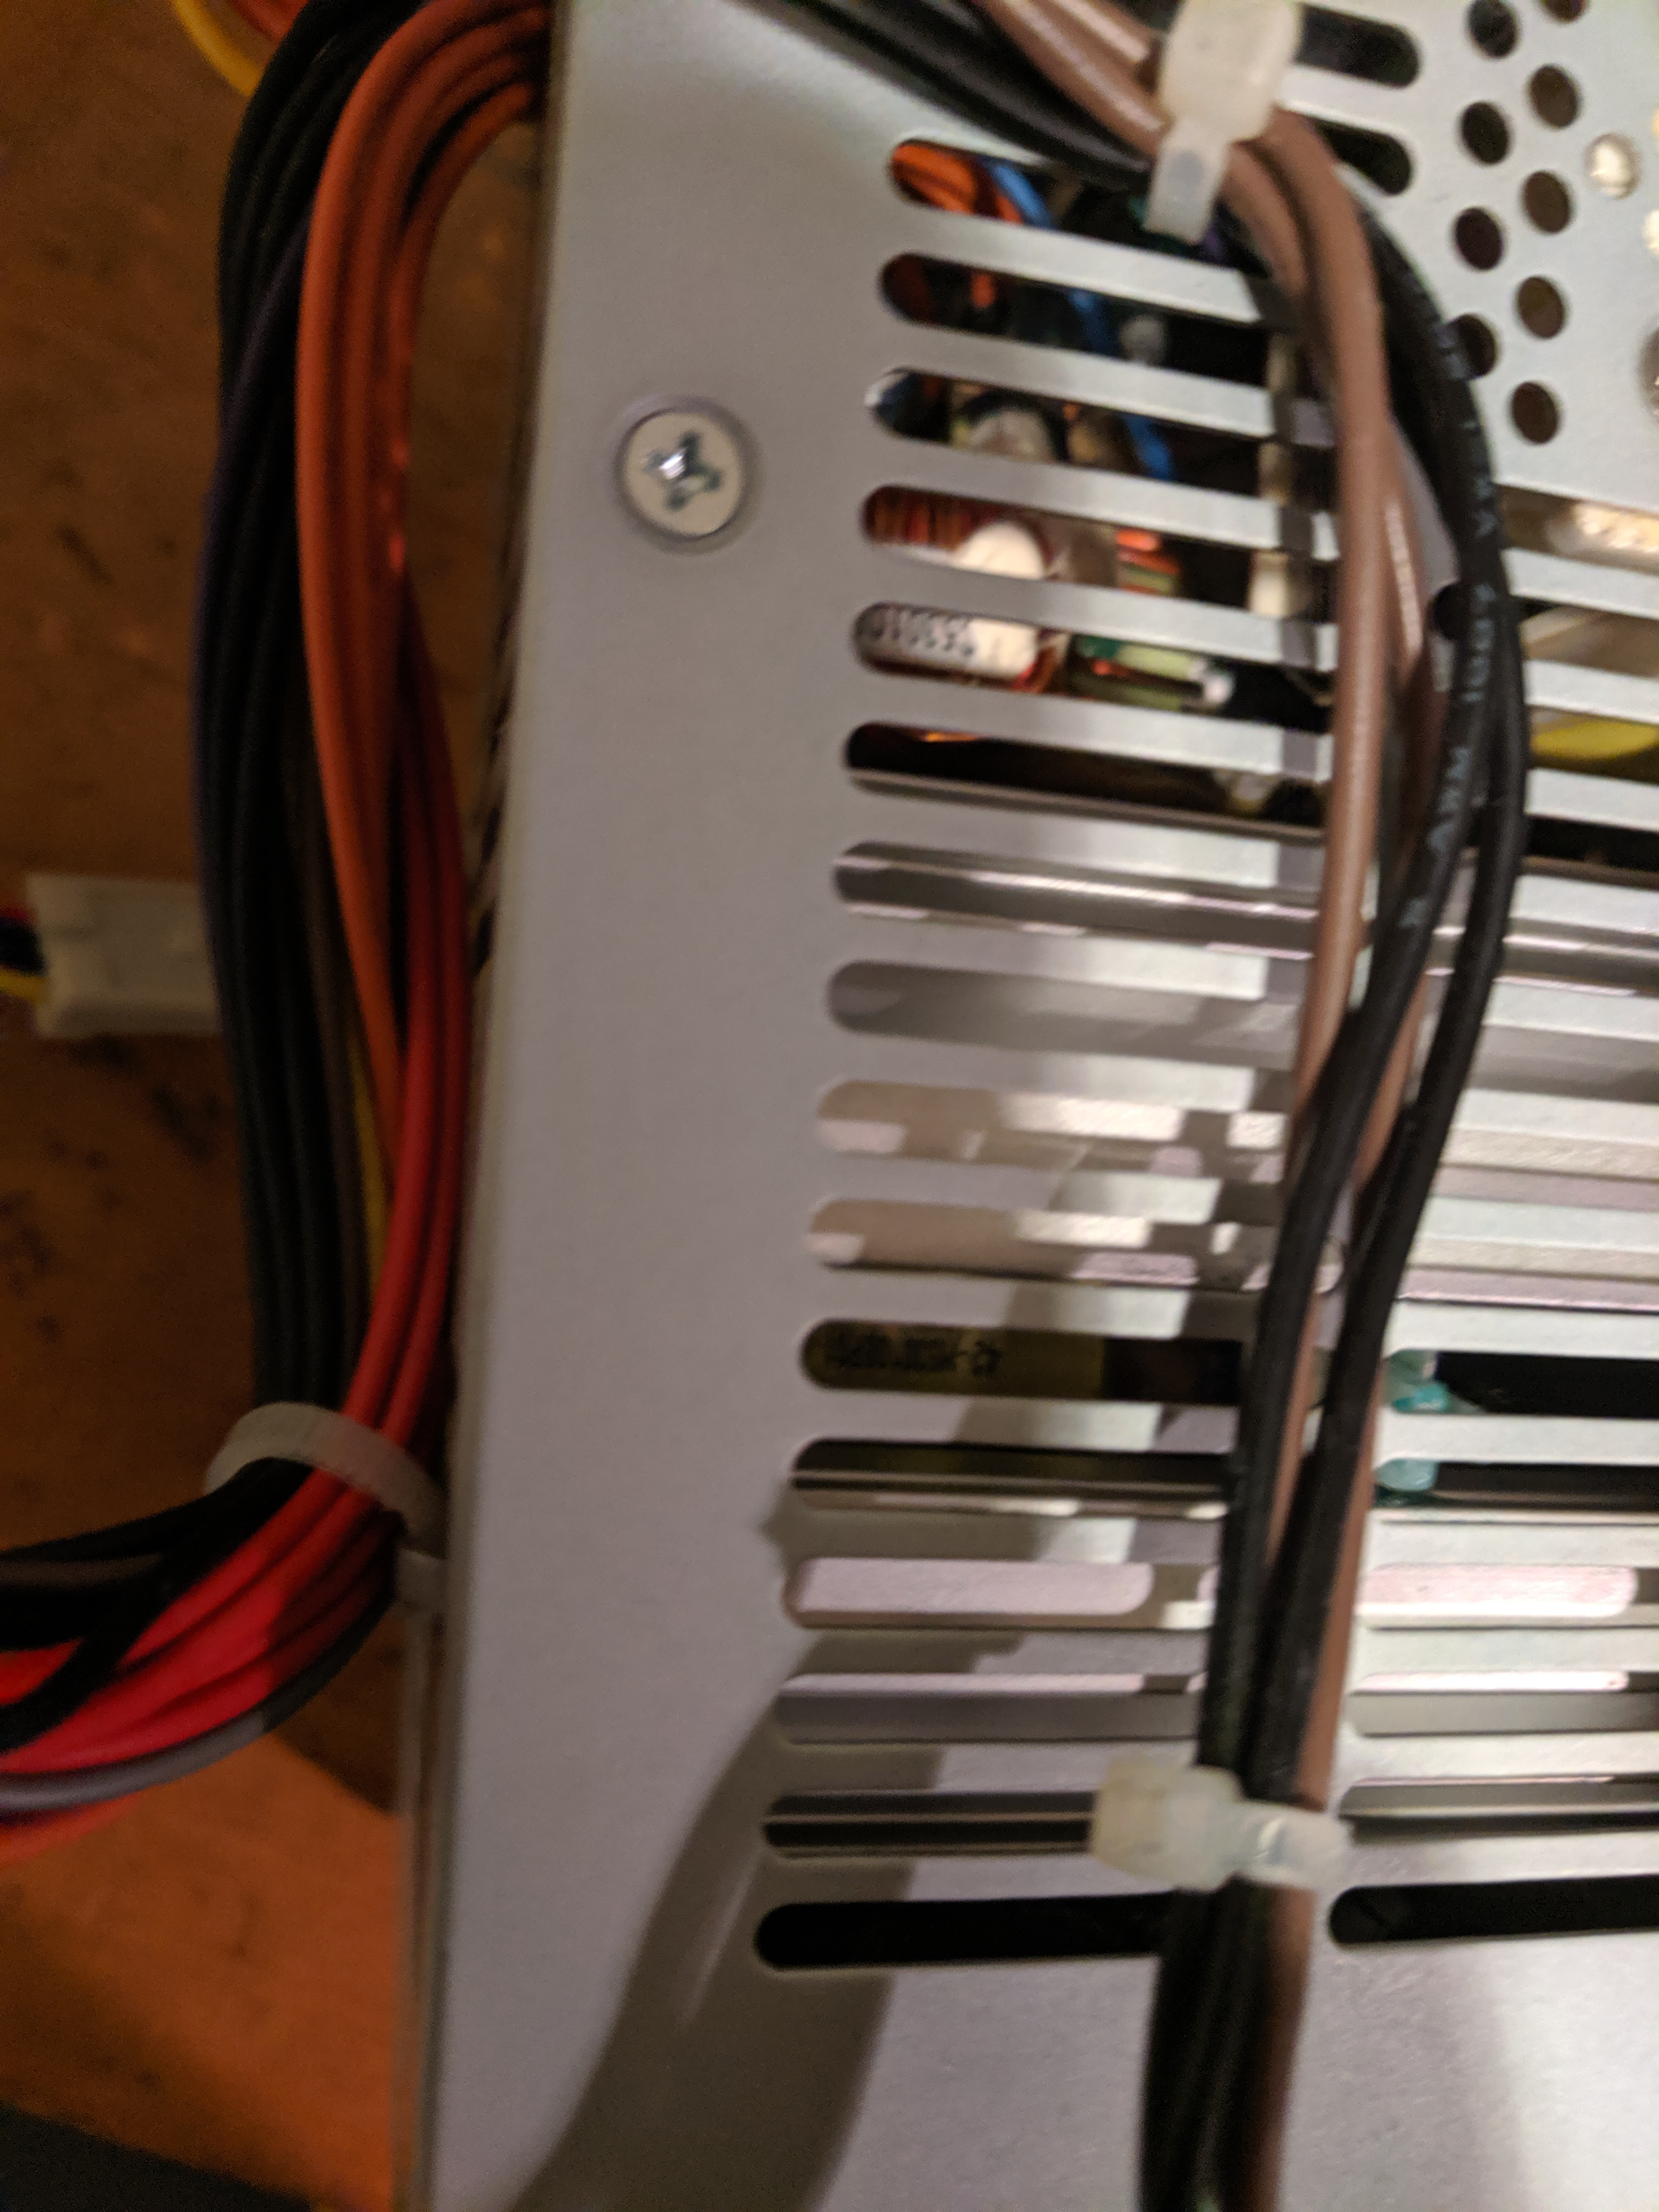cross_recessed_screw: (612, 401, 756, 538)
